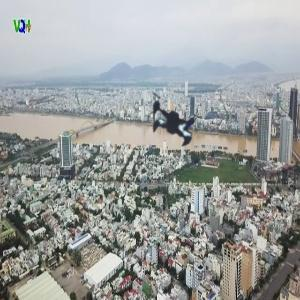drone: (123, 72, 227, 176)
